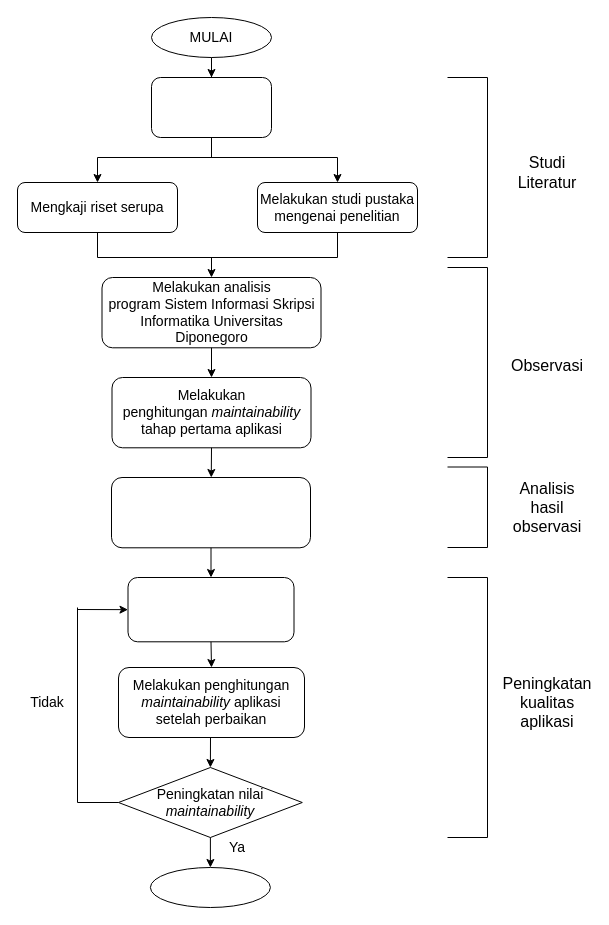
Image size: 609x925. Some labels were removed from this diagram. Each missing label, with the centre of its shape:
Melakukan analisis hasil penghitungan maintainability tahap pertama aplikasi: point (210, 512)
Melakukan perbaikan dan peningkatan nilai maintainability aplikasi: point (210, 609)
Mengidentifikasi permasalahan: point (211, 107)
SELESAI: point (209, 887)
